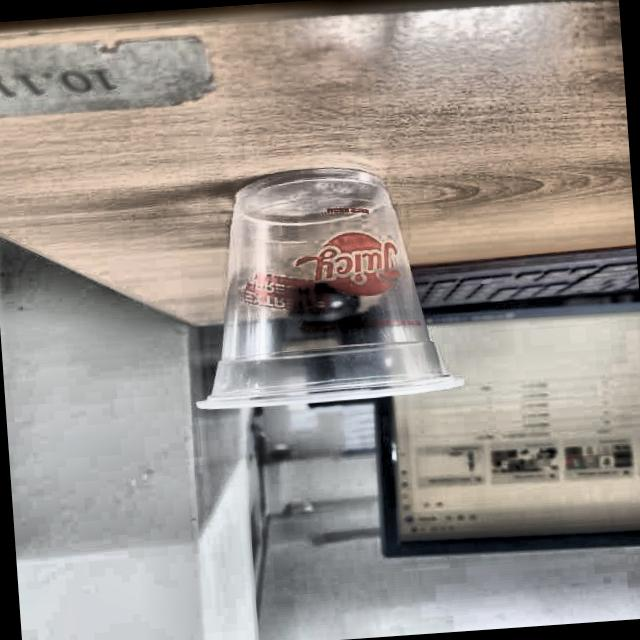plastic cup: (178, 159, 463, 412)
